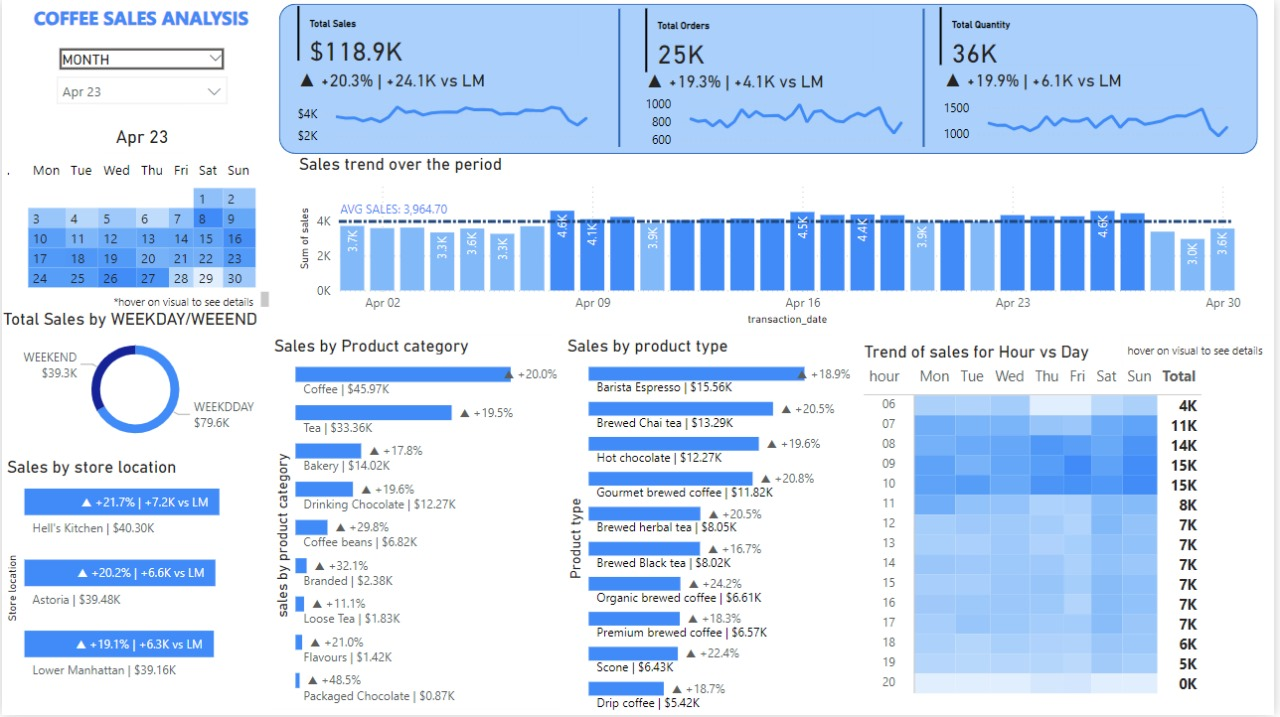

What the dashboard file says about the page in this screenshot:
{"tool":"powerbi","page":{"name":"Page 1","canvas":[1280,720],"ordinal":0},"visuals":[{"type":"cardVisual","fields":{"Data":["Transactions.total_QUANTITY_sold"]},"box":[939.3,2.1,270,68.8],"z":0,"group":"g4"},{"type":"slicer","fields":{"Values":["date_Table.MONTH year"]},"box":[45,43.8,191.2,68.8],"z":0},{"type":"cardVisual","fields":{"Data":["Transactions.total_sales"]},"box":[293.1,0.8,292.5,65],"z":1000,"group":"g4"},{"type":"cardVisual","fields":{"Data":["Transactions.total_QUANTITY_sold"]},"box":[711.2,18.8,267.5,81.2],"z":1000},{"type":"cardVisual","fields":{"Data":["Transactions.Total_orders"]},"box":[643.4,2.8,239.1,74.3],"z":2000,"group":"g4"},{"type":"lineChart","fields":{"Category":["date_Table.Date Hierarchy.Date"],"Y":["Transactions.total_QUANTITY_sold"]},"box":[943.1,69.6,305,81.2],"z":2000,"group":"g2"},{"type":"donutChart","fields":{"Category":["date_Table.WEEKDAY/WEEEND"],"Y":["Transactions.total_sales"]},"box":[0,311.2,268.8,138.8],"z":2000},{"type":"lineChart","fields":{"Category":["date_Table.Date Hierarchy.Date"],"Y":["Transactions.total_sales"]},"box":[293.2,69.5,310.5,81],"z":3000,"group":"g4"},{"type":"group","id":"g1","title":"Group 2","box":[0,108,260,202.6],"z":3000},{"type":"clusteredBarChart","title":"Sales by store location","fields":{"Category":["Transactions.store_location"],"Y":["Sum(Transactions.sales)","Transactions.pipeholder"]},"box":[0,460,268.8,237.5],"z":4000},{"type":"lineChart","fields":{"Category":["date_Table.Date Hierarchy.Date"],"Y":["Transactions.Total_orders"]},"box":[643.1,70.8,277.5,83.8],"z":5000,"group":"g4"},{"type":"columnChart","title":"Sales trend over the period","fields":{"Category":["Transactions.transaction_date"],"Y":["Sum(Transactions.sales)"]},"box":[293.8,155,958.8,177.5],"z":5000},{"type":"pivotTable","fields":{"Columns":["date_Table.day_name"],"Rows":["date_Table.week_number"],"Values":["Min(date_Table.date_num)"]},"box":[0,155.1,260,155.5],"z":5000,"group":"g5"},{"type":"shape","box":[502.7,7.9,237.4,139.3],"z":6000,"group":"g4"},{"type":"cardVisual","fields":{"Data":["Min(date_Table.MONTH year)"]},"box":[97.5,108,87.5,47.5],"z":6000,"group":"g5"},{"type":"clusteredBarChart","title":"Sales by Product category","fields":{"Y":["Sum(Transactions.sales)","Transactions.pipeholder"],"Category":["Transactions.product_category"]},"box":[268.8,337.5,295,376.2],"z":6000},{"type":"shape","box":[808.9,7.9,237.4,139.3],"z":7000,"group":"g4"},{"type":"clusteredBarChart","title":"Sales by product type","fields":{"Y":["Sum(Transactions.sales)","Transactions.pipeholder"],"Category":["Transactions.product_type"]},"box":[563.8,337.5,295,382.5],"z":7000},{"type":"shape","box":[278.8,3.8,985,151.2],"z":8000},{"type":"group","id":"g2","title":"Group 6","box":[293.1,0.8,955,153.8],"z":9000},{"type":"group","id":"g3","title":"Group 3","box":[862.5,343.8,362.5,370],"z":10000},{"type":"textbox","box":[11.2,0,257.5,43.8],"z":11000},{"type":"pivotTable","title":"Trend of sales for Hour vs Day ","fields":{"Rows":["Transactions.trasactiom hour"],"Columns":["date_Table.day_name"],"Values":["Sum(Transactions.sales)"]},"box":[862.5,343.8,362.5,370],"z":11000,"group":"g3"},{"type":"group","id":"g4","title":"Group 5","box":[293.1,0.8,916.2,153.8],"z":12000,"group":"g2"},{"type":"textbox","box":[110,276.2,158.8,35],"z":12000},{"type":"textbox","box":[1127.5,337.5,152.5,33.8],"z":13000},{"type":"group","id":"g5","title":"Group 4","box":[0,108,260,202.6],"z":13002,"group":"g1"}]}

Visuals, with their boxes in screenshot pixels (x1, y1, x2, y2), scaled from the page's 1280x720 canvas onto the 1280x717 screenshot:
cardVisual - Transactions.total_QUANTITY_sold: box=[939, 2, 1209, 71]
slicer - date_Table.MONTH year: box=[45, 44, 236, 112]
cardVisual - Transactions.total_sales: box=[293, 1, 586, 66]
cardVisual - Transactions.total_QUANTITY_sold: box=[711, 19, 979, 100]
cardVisual - Transactions.Total_orders: box=[643, 3, 882, 77]
lineChart - date_Table.Date Hierarchy.Date x Transactions.total_QUANTITY_sold: box=[943, 69, 1248, 150]
donutChart - date_Table.WEEKDAY/WEEEND x Transactions.total_sales: box=[0, 310, 269, 448]
lineChart - date_Table.Date Hierarchy.Date x Transactions.total_sales: box=[293, 69, 604, 150]
"Group 2" group: box=[0, 108, 260, 309]
"Sales by store location" clusteredBarChart: box=[0, 458, 269, 695]
lineChart - date_Table.Date Hierarchy.Date x Transactions.Total_orders: box=[643, 71, 921, 154]
"Sales trend over the period" columnChart: box=[294, 154, 1253, 331]
pivotTable - date_Table.day_name x date_Table.week_number: box=[0, 154, 260, 309]
shape: box=[503, 8, 740, 147]
cardVisual - Min(date_Table.MONTH year): box=[98, 108, 185, 155]
"Sales by Product category" clusteredBarChart: box=[269, 336, 564, 711]
shape: box=[809, 8, 1046, 147]
"Sales by product type" clusteredBarChart: box=[564, 336, 859, 716]
shape: box=[279, 4, 1264, 154]
"Group 6" group: box=[293, 1, 1248, 154]
"Group 3" group: box=[862, 342, 1225, 711]
textbox: box=[11, 0, 269, 44]
"Trend of sales for Hour vs Day " pivotTable: box=[862, 342, 1225, 711]
"Group 5" group: box=[293, 1, 1209, 154]
textbox: box=[110, 275, 269, 310]
textbox: box=[1128, 336, 1279, 370]
"Group 4" group: box=[0, 108, 260, 309]
